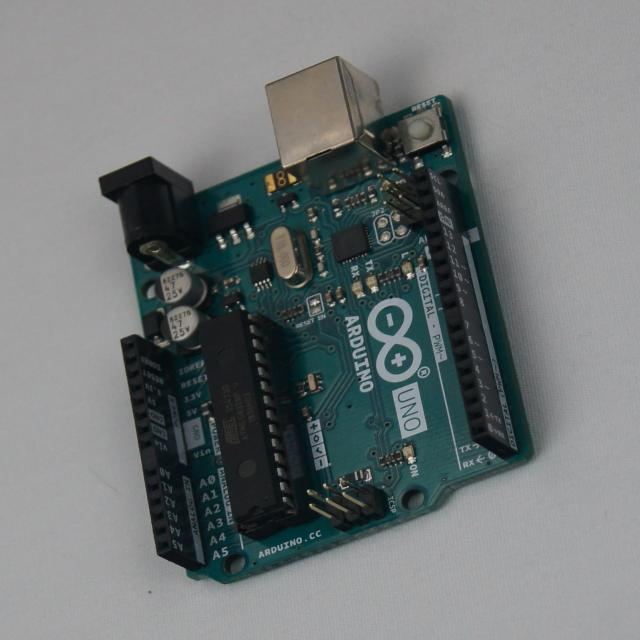Arduino Uno -Green-: (100, 58, 533, 584)
